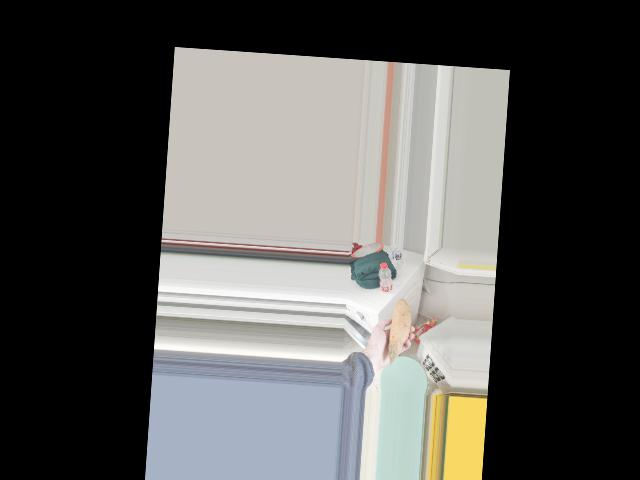sweet_potato: (387, 304, 412, 361)
